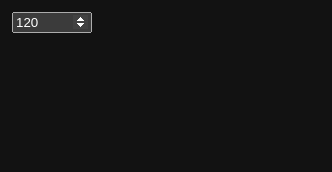
NumberField › commits on Enter, held inside the bounds
Later steps or results of the test are not shown.
Replace the text in the number field named "BPM" with "999" at (52, 22), box 12,12 -> 92,33
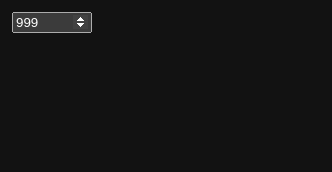
Press Enter in the number field named "BPM", box 12,12 -> 92,33
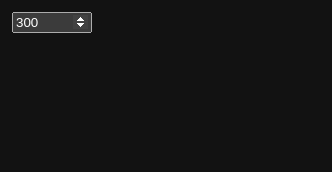
Check: the number field named "BPM" holds "300", box 12,12 -> 92,33
